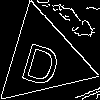D: (18, 34, 66, 88)
